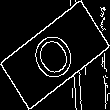O_SE: (26, 22, 84, 88)
